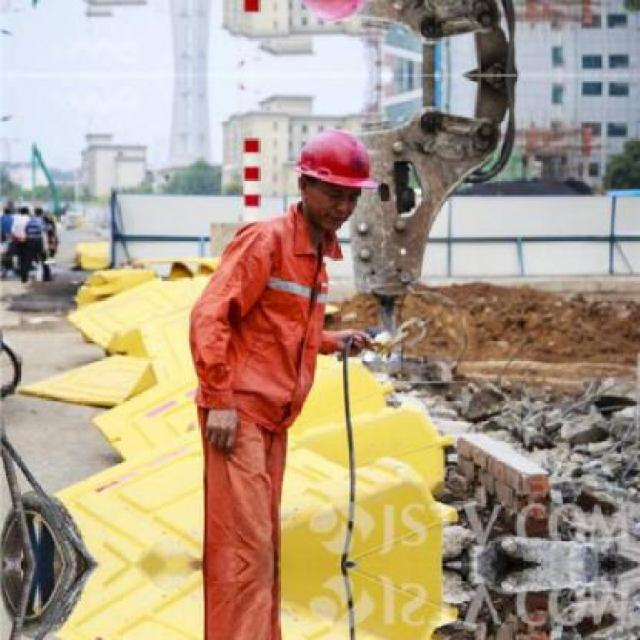helmet: (286, 120, 385, 228), (286, 0, 386, 29)
